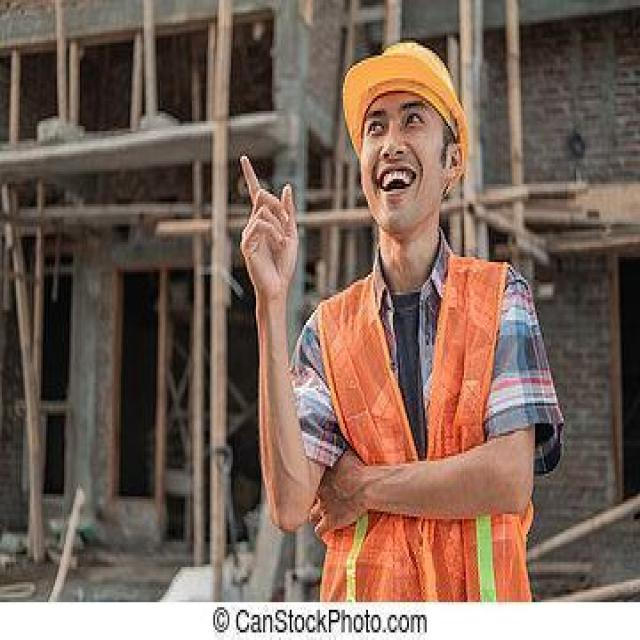helmet: (342, 40, 468, 174)
